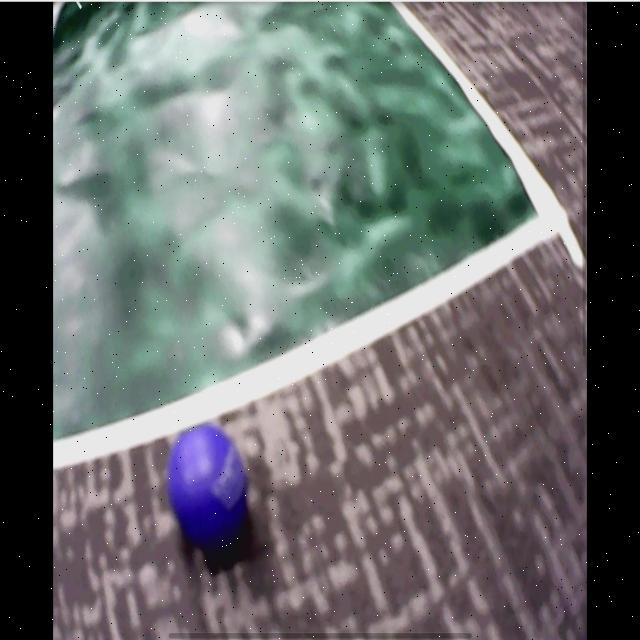ball: (167, 423, 246, 543)
